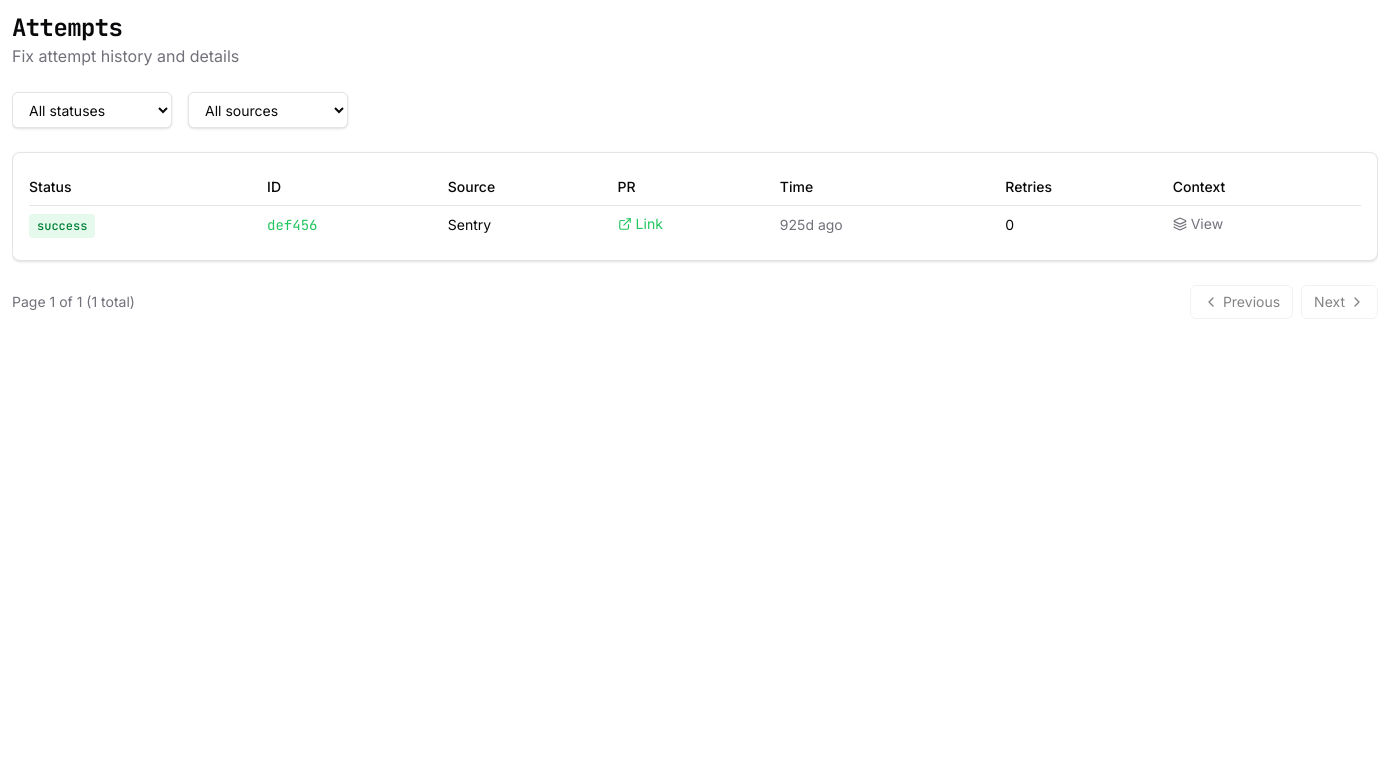
Test case: Page Components › AttemptsPage › shows attempt detail panel when clicking attempt ID
This screenshot has width=1390, height=766.
Step 1. Click the button "def456" → (292, 225), box x1=267 y1=215 x2=318 y2=235
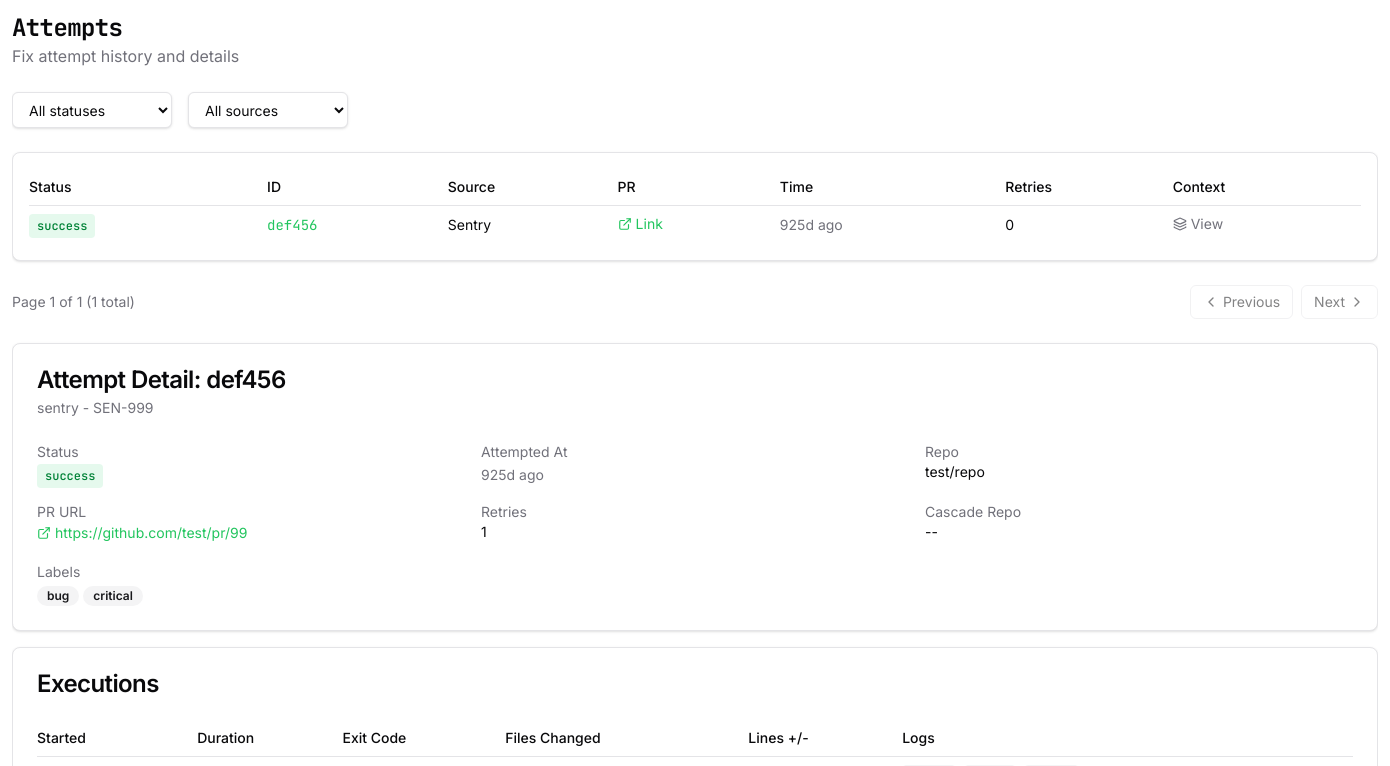
expect the heading "Attempt Detail: def456" is shown: met, box x1=37 y1=365 x2=286 y2=394
expect the heading "Executions" is shown: met, box x1=37 y1=669 x2=159 y2=698
expect the text "bug" is shown: met, box x1=37 y1=586 x2=79 y2=606
